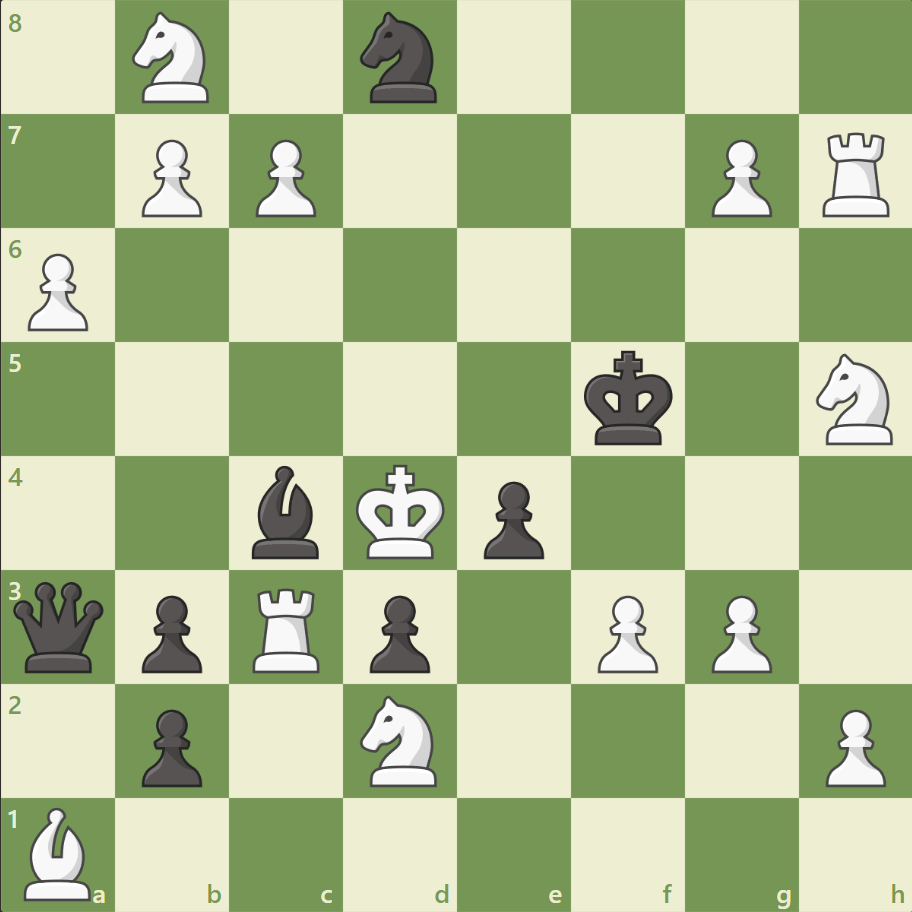B: (17, 801, 101, 904)
K: (351, 458, 451, 566)
N: (124, 7, 222, 110), (351, 688, 449, 791), (806, 348, 903, 450)
P: (133, 132, 208, 223), (247, 132, 322, 223), (701, 132, 776, 223), (20, 246, 95, 337), (701, 586, 776, 677), (588, 586, 662, 677), (815, 700, 889, 791)
R: (814, 125, 897, 222), (246, 579, 329, 676)
b: (244, 460, 328, 563)
k: (579, 344, 679, 452)
n: (351, 7, 449, 110)
p: (474, 473, 549, 564), (133, 586, 208, 677), (133, 700, 208, 791), (361, 586, 435, 677)
q: (10, 576, 109, 676)
